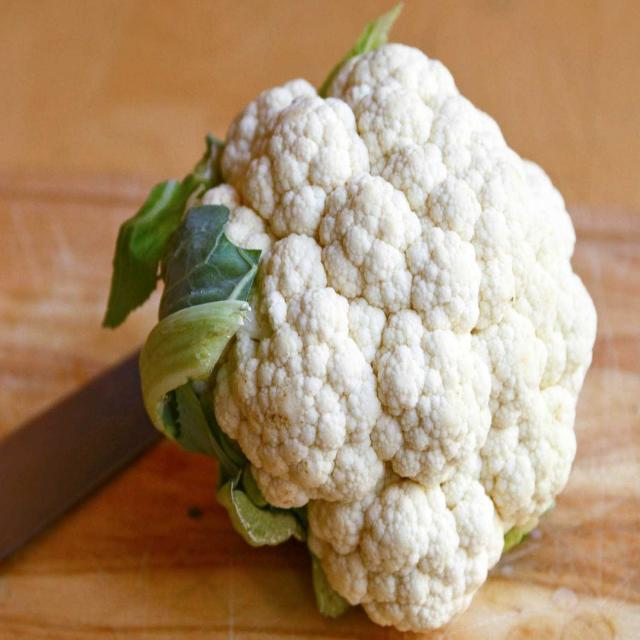cauliflower: (102, 11, 617, 623)
